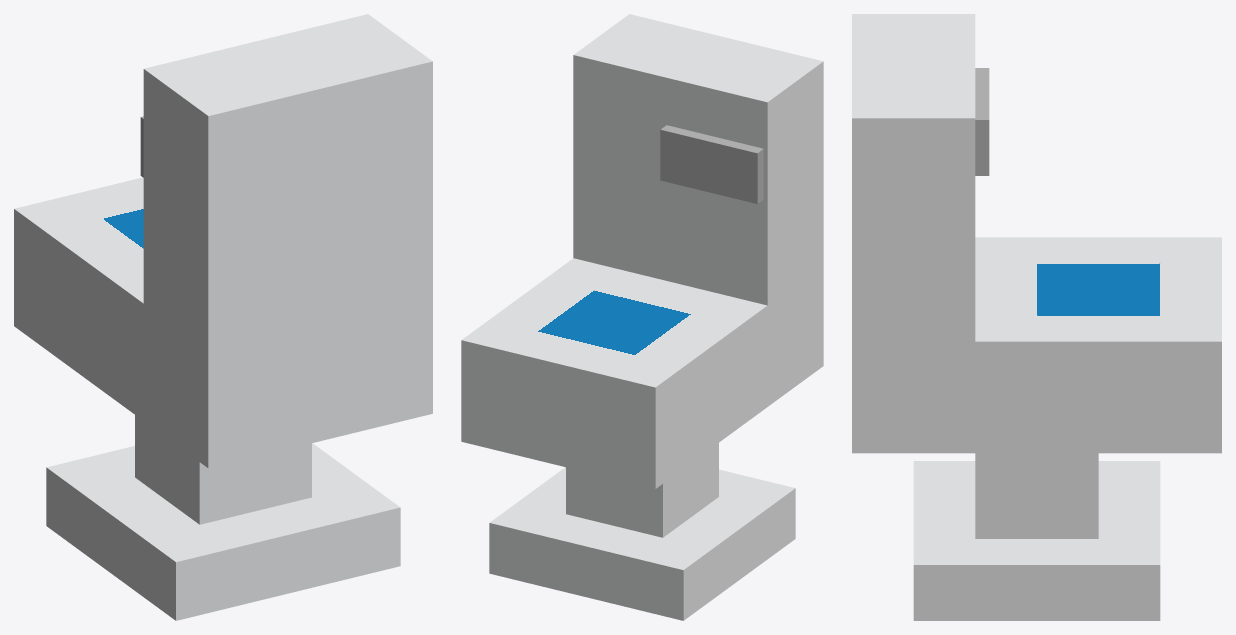
File: ToiletHandleInc.dae
3 views of the same model, side by side, from view 1: azimuth 30°, elevation 25°; view 2: azimuth 150°, elevation 25°; view 3: azimuth 270°, elevation 25° (orthographic). The views are drawn at different scales.
Parts seen in each view (by area): view 1: Toilet-local; view 2: Toilet-local, Handle-local; view 3: Toilet-local, Handle-local.
Boxes of the visible parts, x1,y1,x2,y2 form: Toilet-local: (14,14,432,620); Toilet-local: (461,14,823,620); Handle-local: (660,125,763,203); Toilet-local: (852,14,1221,620); Handle-local: (975,68,989,175).
Size of the model in its own units: 4 by 9 by 6.
2 materials, 2 textured.
